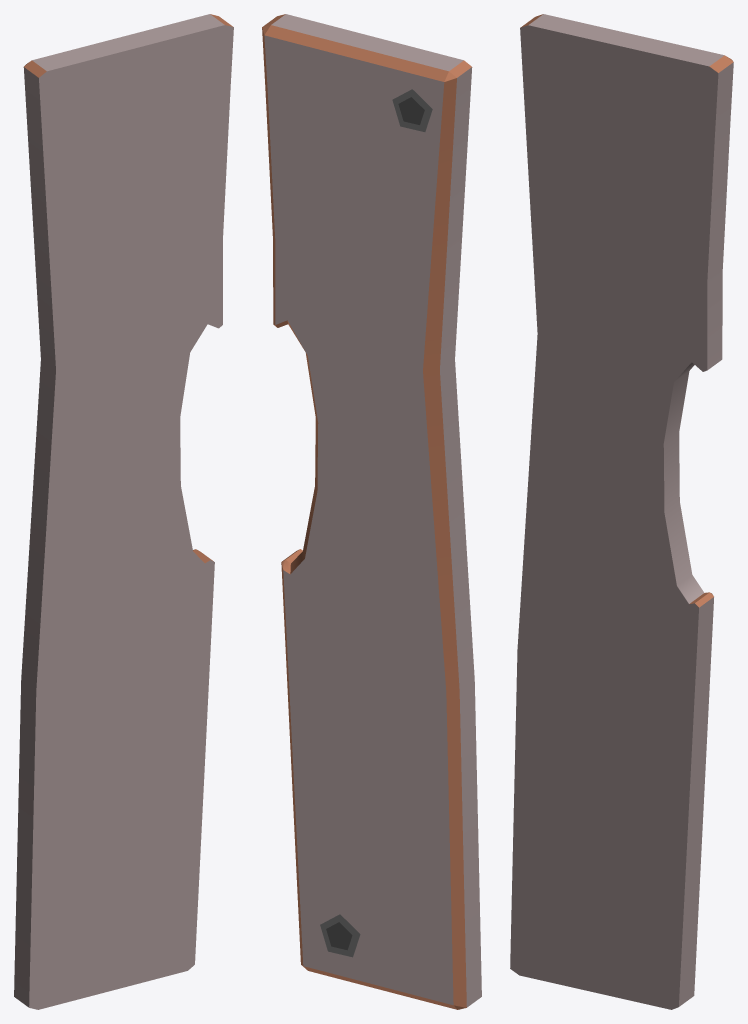
The model's file is WoodBoardB.fbx.
The picture shows the model from 3 angles, left to right: view 1: azimuth 30°, elevation 25°; view 2: azimuth 150°, elevation 25°; view 3: azimuth 330°, elevation 25°; orthographic projection.
Visible parts, largest first — view 1: WoodBoardB; view 2: WoodBoardB; view 3: WoodBoardB.
Part boxes in pixels (box(x1,y1,x2,y2)): WoodBoardB: box(14, 14, 233, 1009); WoodBoardB: box(262, 14, 481, 1009); WoodBoardB: box(510, 14, 733, 1009).
Bounding box in the file's own units: 85.08 × 373 × 14.97.
